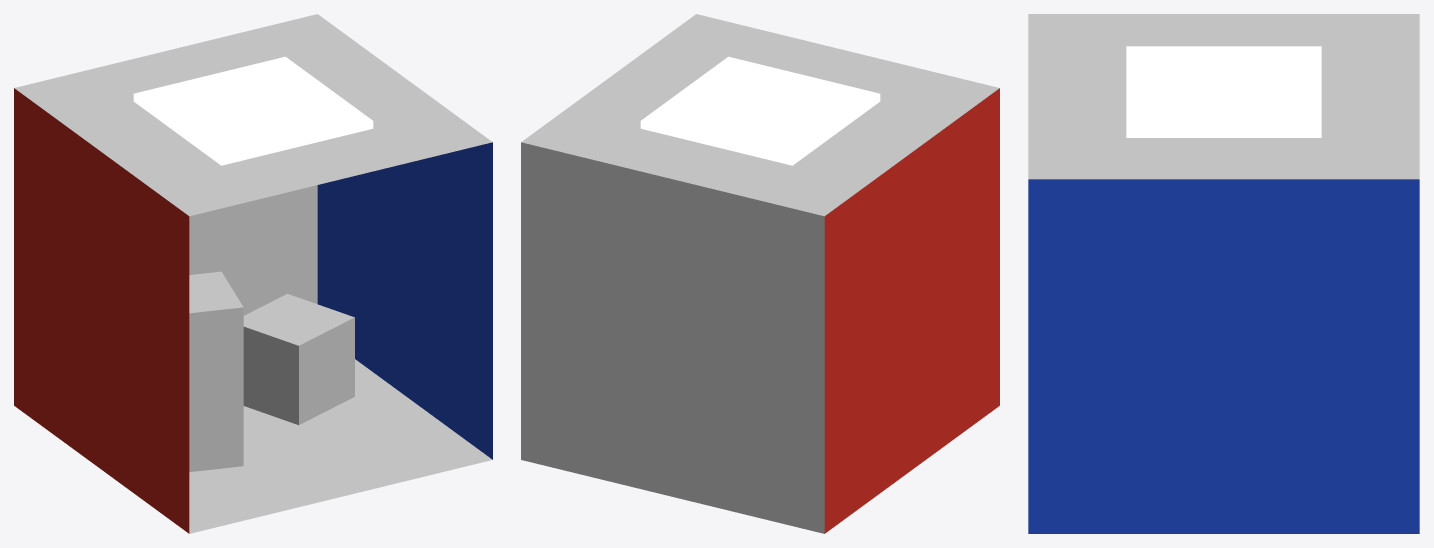
The model's file is cornell_mbp.glb.
3 renders of one model, left to right at view 1: azimuth 30°, elevation 25°; view 2: azimuth 150°, elevation 25°; view 3: azimuth 270°, elevation 25°, orthographic. The views are drawn at different scales.
Parts seen in each view (by area): view 1: Plane.002, Plane.003, Plane.001, Plane, LightPlane, Cube.001, Plane.004, BigBox; view 2: Plane.004, Plane.002, Plane.001, LightPlane; view 3: Plane.003, Plane.001, LightPlane.
Boxes of the visible parts, x1=… form: Plane.002: x1=14, y1=88, x2=189, y2=533; Plane.003: x1=317, y1=142, x2=492, y2=459; Plane.001: x1=14, y1=14, x2=492, y2=216; Plane: x1=189, y1=359, x2=492, y2=533; LightPlane: x1=133, y1=56, x2=373, y2=165; Cube.001: x1=243, y1=294, x2=354, y2=425; Plane.004: x1=189, y1=185, x2=317, y2=315; BigBox: x1=189, y1=271, x2=243, y2=471; Plane.004: x1=521, y1=142, x2=824, y2=533; Plane.002: x1=824, y1=88, x2=999, y2=533; Plane.001: x1=521, y1=14, x2=999, y2=216; LightPlane: x1=640, y1=56, x2=880, y2=165; Plane.003: x1=1028, y1=179, x2=1419, y2=533; Plane.001: x1=1028, y1=14, x2=1419, y2=179; LightPlane: x1=1126, y1=46, x2=1321, y2=137.
Bounding box in the file's own units: 2 × 2.05 × 2.
